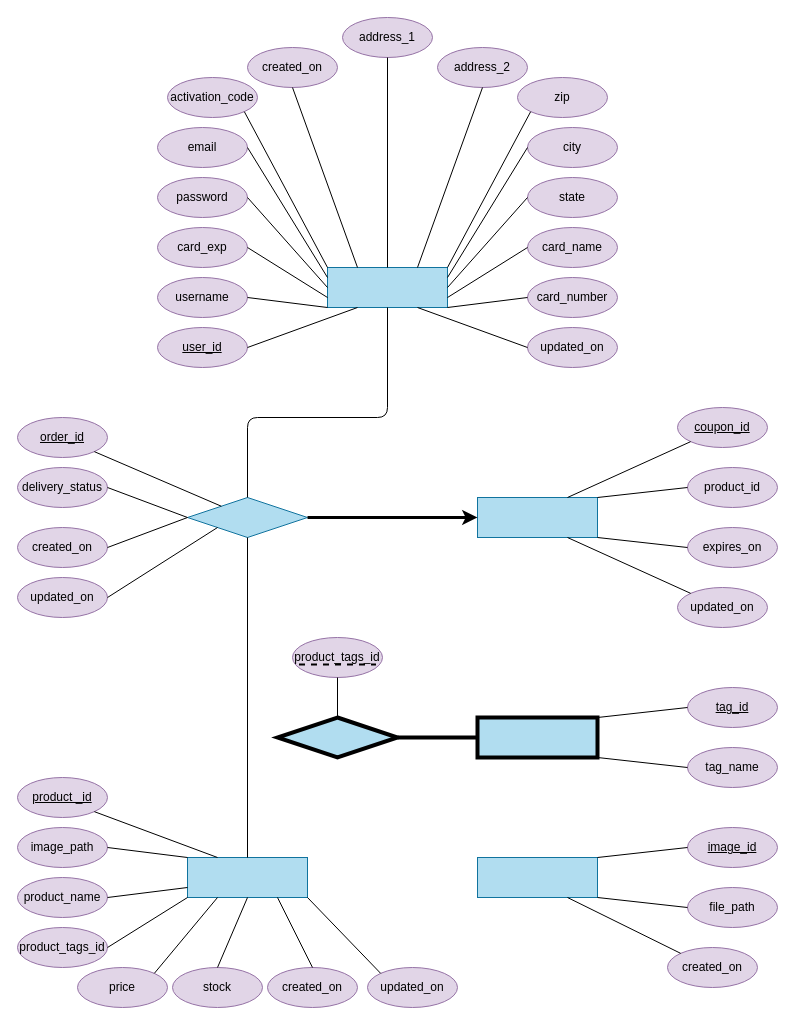
Image size: 795x1025. Some labels were removed from this diagram. The centre of each missing label's shape, as x and y in pixels:
COUPONS: pixel 537 517
IMAGES: pixel 537 877
Orders: pixel 247 517
product_tags: pixel 337 737
PRODUCTS: pixel 247 877
TAGS: pixel 537 737
USERS: pixel 387 287
